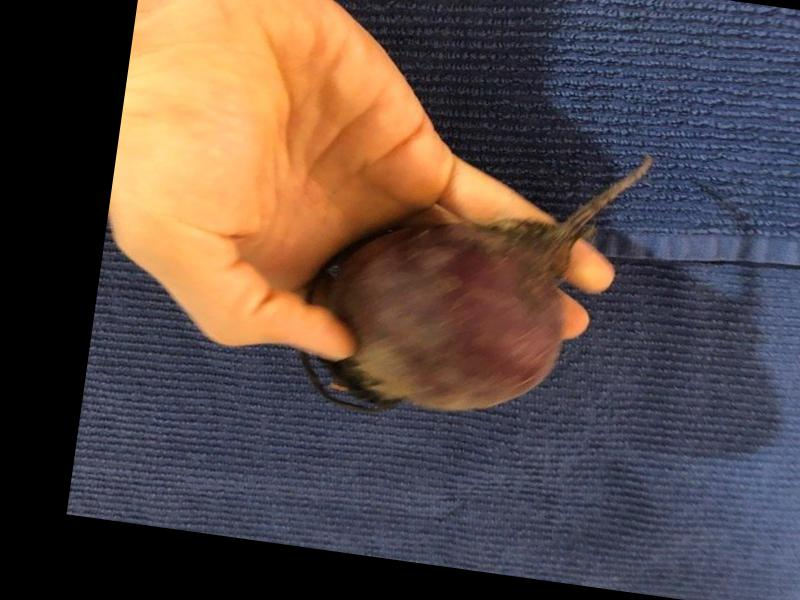Beet: (293, 110, 655, 446)
